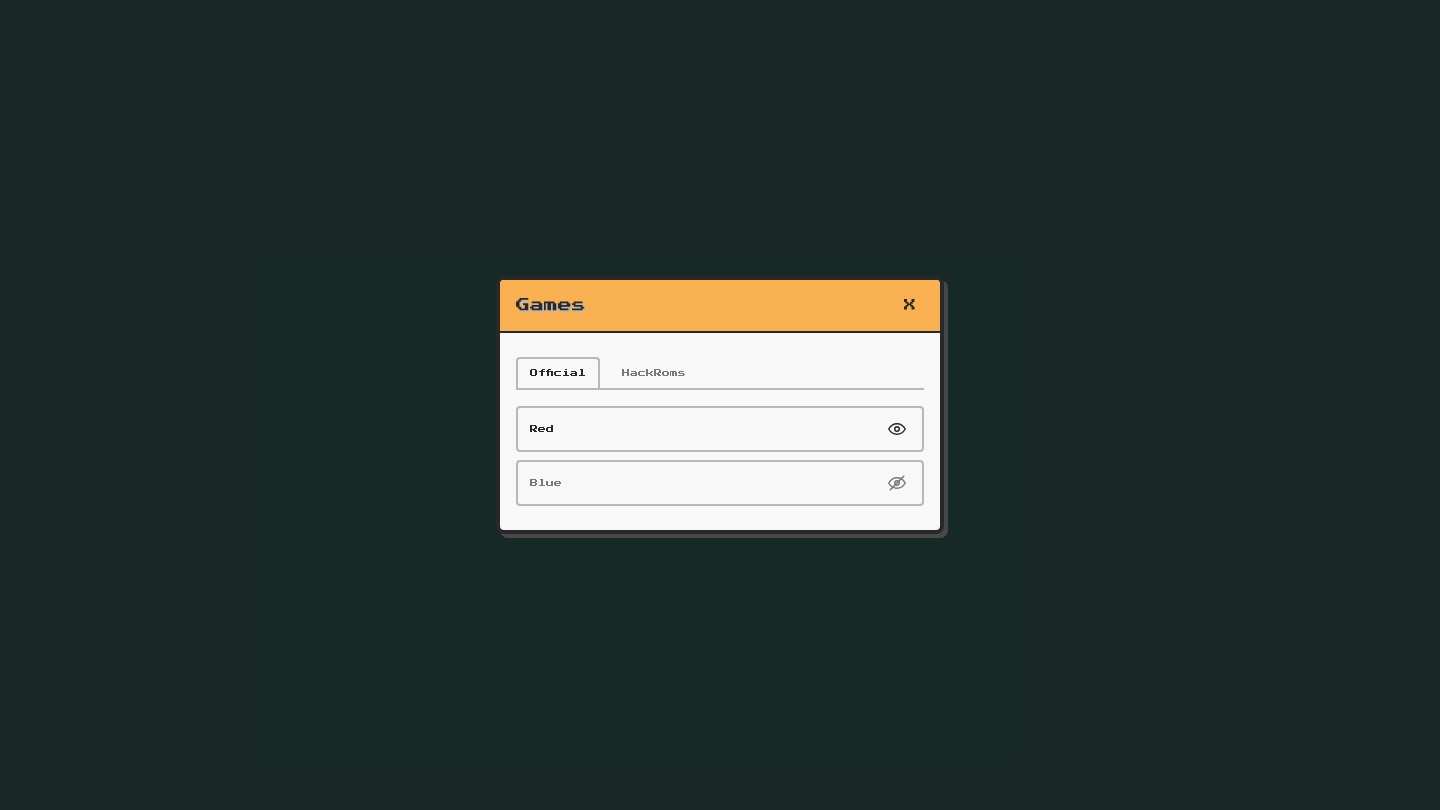
GamesModal › não lista o jogo do sistema em nenhuma das abas
expect the text "Red" is shown: met, box top-left (530, 423), bottom-right (554, 435)
Click the tab "HackRoms".
click(654, 373)  # box top-left (608, 357), bottom-right (700, 388)
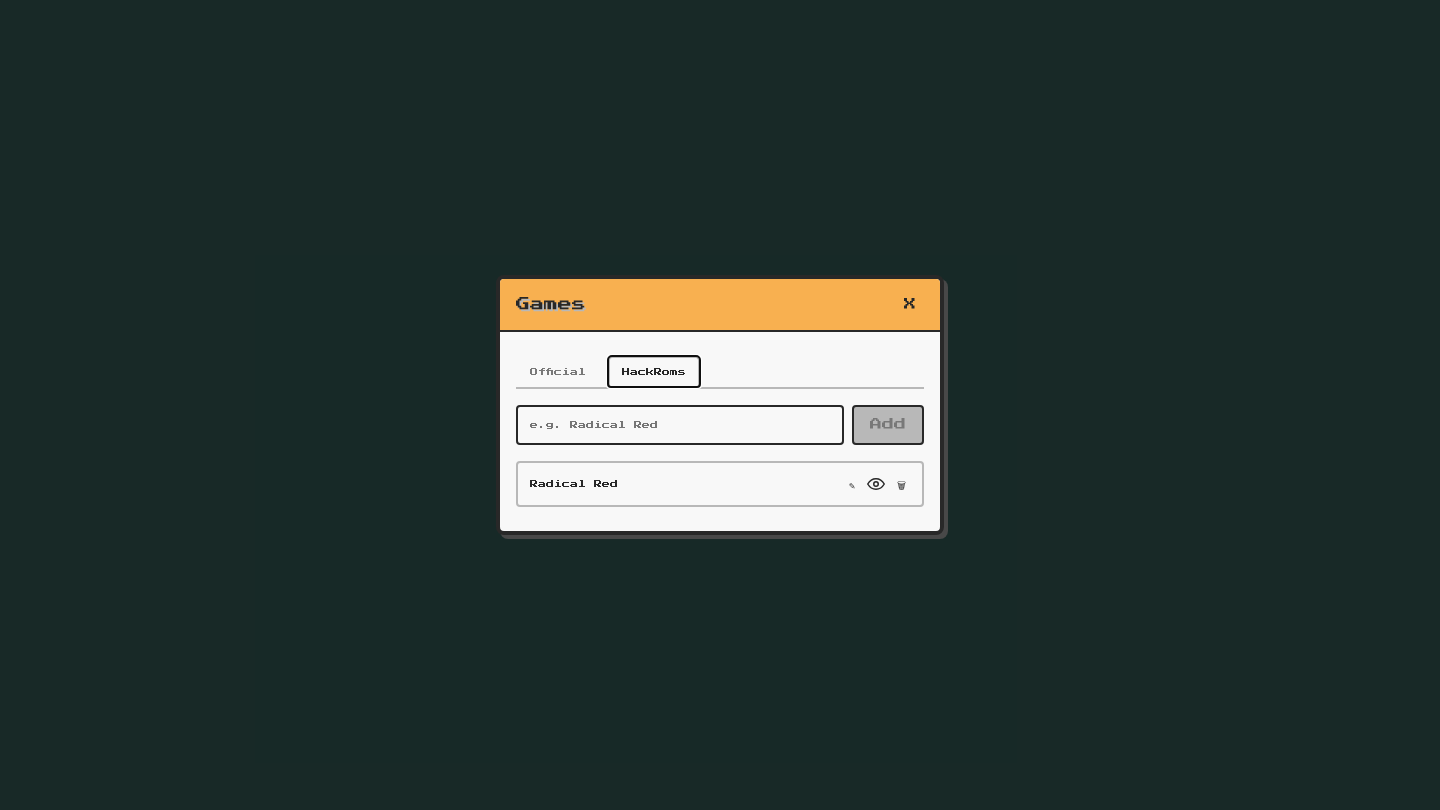
expect the text "Radical Red" is shown: met, box top-left (530, 478), bottom-right (618, 490)
